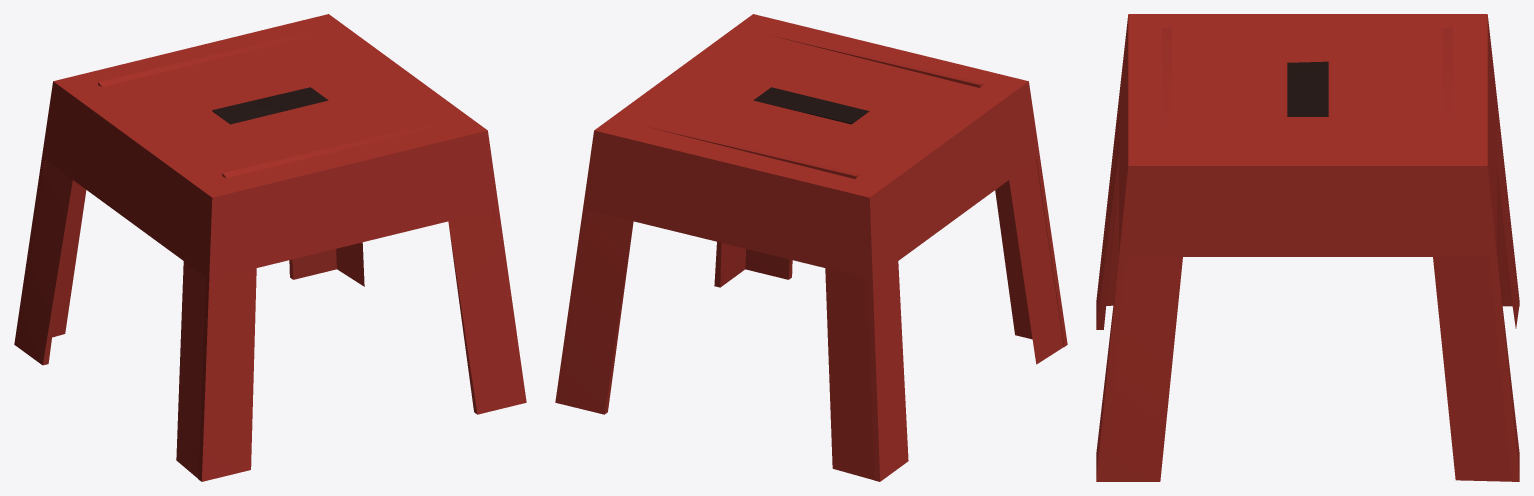
The model's file is ghe_nhua_thap.glb.
3 renders of one model, left to right at view 1: azimuth 30°, elevation 25°; view 2: azimuth 150°, elevation 25°; view 3: azimuth 270°, elevation 25°, orthographic. The views are drawn at different scales.
Visible parts, largest first — view 1: ghe_nhua_thap; view 2: ghe_nhua_thap; view 3: ghe_nhua_thap.
Boxes of the visible parts, left/top/right/bottom form: ghe_nhua_thap: left=14, top=14, right=526, bottom=481; ghe_nhua_thap: left=555, top=14, right=1067, bottom=481; ghe_nhua_thap: left=1096, top=14, right=1519, bottom=481.
Bounding box in the file's own units: 0.33 × 0.263 × 0.33.
